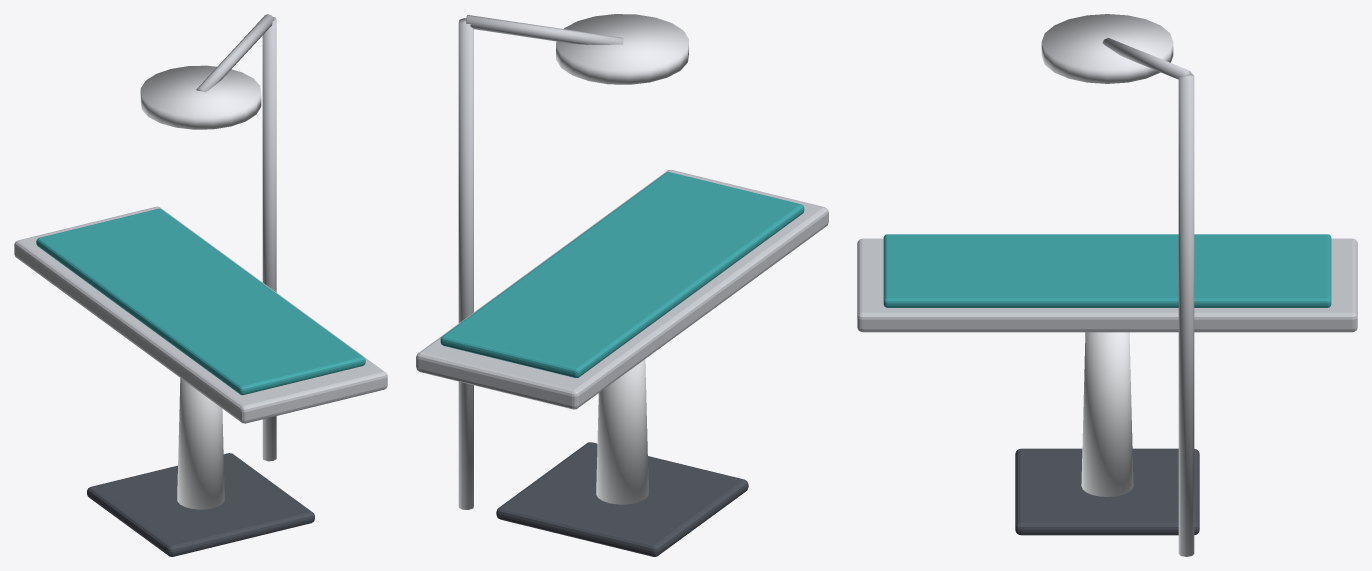
File: medbay_bed_surgery_table.glb
The picture shows the model from 3 angles, left to right: view 1: azimuth 30°, elevation 25°; view 2: azimuth 150°, elevation 25°; view 3: azimuth 270°, elevation 25°; orthographic projection. The views are drawn at different scales.
Visible parts, largest first — view 1: GD_medbay_bed_surgery_table__m1, GD_medbay_bed_surgery_table__m0, GD_medbay_bed_surgery_table__m3, GD_medbay_bed_surgery_table__m4, GD_medbay_bed_surgery_table__m2; view 2: GD_medbay_bed_surgery_table__m1, GD_medbay_bed_surgery_table__m0, GD_medbay_bed_surgery_table__m3, GD_medbay_bed_surgery_table__m4, GD_medbay_bed_surgery_table__m2; view 3: GD_medbay_bed_surgery_table__m1, GD_medbay_bed_surgery_table__m0, GD_medbay_bed_surgery_table__m3, GD_medbay_bed_surgery_table__m2, GD_medbay_bed_surgery_table__m4.
Boxes of the visible parts, left/top/right/bottom form: GD_medbay_bed_surgery_table__m1: left=36, top=208, right=365, bottom=394; GD_medbay_bed_surgery_table__m0: left=14, top=14, right=387, bottom=461; GD_medbay_bed_surgery_table__m3: left=87, top=453, right=314, bottom=556; GD_medbay_bed_surgery_table__m4: left=140, top=65, right=261, bottom=129; GD_medbay_bed_surgery_table__m2: left=177, top=378, right=224, bottom=509; GD_medbay_bed_surgery_table__m1: left=440, top=172, right=804, bottom=377; GD_medbay_bed_surgery_table__m0: left=416, top=15, right=828, bottom=509; GD_medbay_bed_surgery_table__m3: left=496, top=442, right=748, bottom=556; GD_medbay_bed_surgery_table__m4: left=556, top=14, right=688, bottom=84; GD_medbay_bed_surgery_table__m2: left=596, top=359, right=648, bottom=504; GD_medbay_bed_surgery_table__m1: left=883, top=234, right=1331, bottom=307; GD_medbay_bed_surgery_table__m0: left=857, top=38, right=1357, bottom=556; GD_medbay_bed_surgery_table__m3: left=1015, top=448, right=1199, bottom=535; GD_medbay_bed_surgery_table__m2: left=1081, top=332, right=1133, bottom=496; GD_medbay_bed_surgery_table__m4: left=1041, top=14, right=1173, bottom=83.
Size of the model in its own units: 0.88 by 2.02 by 1.9.
